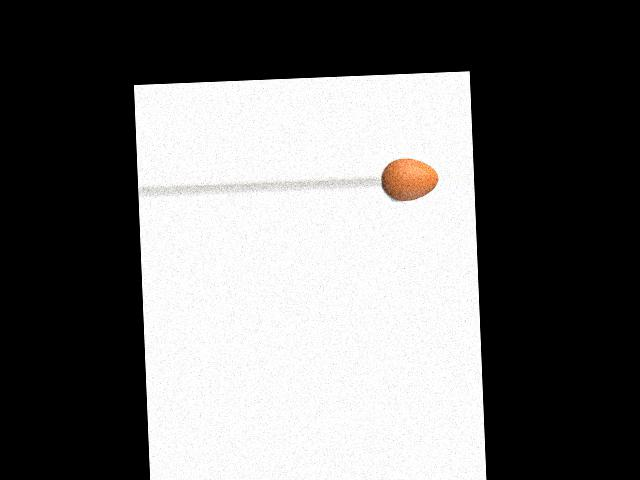egg: (380, 157, 438, 202)
